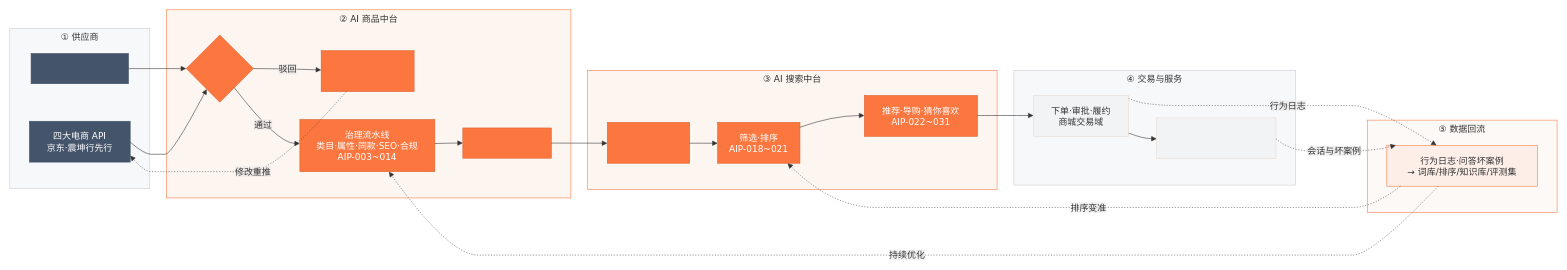
Image size: 1567x270. Some labels were removed from this diagram. Here are the shapes that lost their labels. From the top down, the centre of each, then its label:
At pixel 80 68: "集采供应商目录".
At pixel 219 68: "图文审核 AIP-007".
At pixel 367 71: "驳回+原因反馈 AIP-009".
At pixel 506 142: "标准化商品池".
At pixel 648 142: "搜索理解 AIP-015~017".
At pixel 1216 138: "AI 客服 AICS-001~029 智能体优先·人工兜底".
